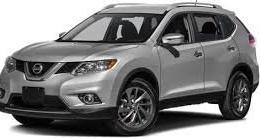Crossovers: (1, 4, 260, 136)
